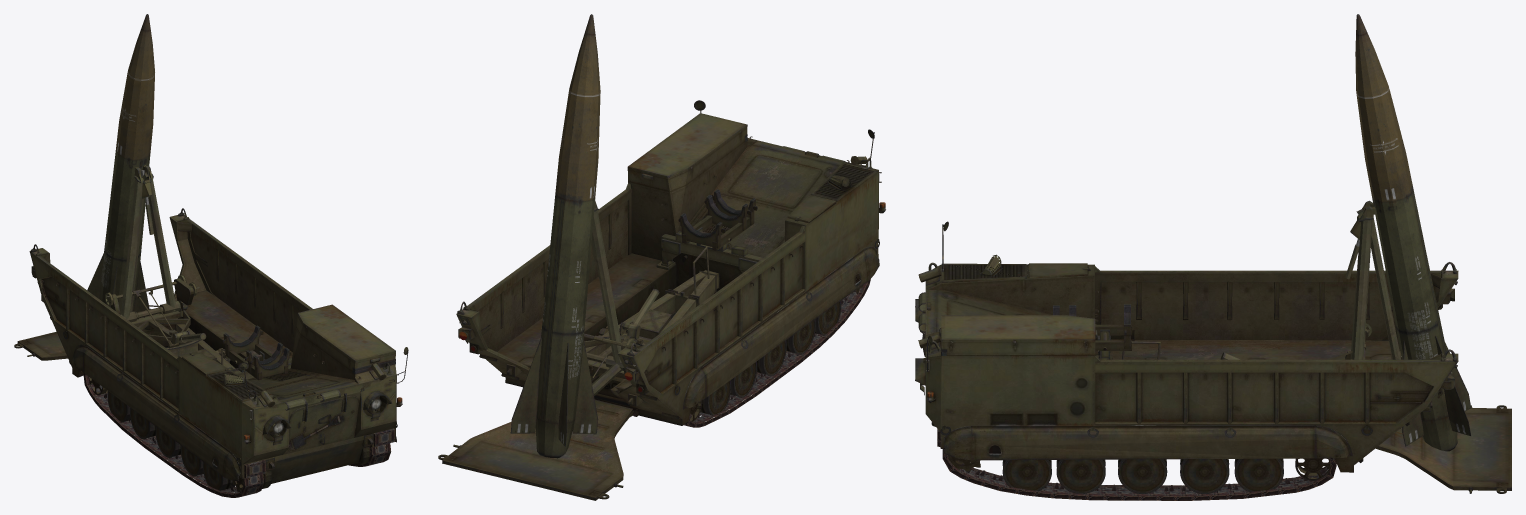
The model's file is us_ai_tbm_m752_lance_shop.obj.
The picture shows the model from 3 angles, left to right: view 1: azimuth 30°, elevation 25°; view 2: azimuth 150°, elevation 25°; view 3: azimuth 270°, elevation 25°; orthographic projection. The views are drawn at different scales.
Parts seen in each view (by area): view 1: vehicle#body_0, mgm_52_lance#mgm_52_lance_21, vehicle#gun_mask_18, vehicle#truck_2, vehicle#turret_17, vehicle#door_1, vehicle#wheel_r_01_4, vehicle#wheel_r_04_7, vehicle#wheel_r_03_6, vehicle#wheel_r_05_8; view 2: vehicle#body_0, mgm_52_lance#mgm_52_lance_21, vehicle#door_1, vehicle#truck_2, vehicle#gun_mask_18, vehicle#turret_17, vehicle#wheel_r_05_8, vehicle#wheel_r_03_6, vehicle#wheel_r_02_5, vehicle#wheel_r_04_7, vehicle#roll_01_22, vehicle#wheel_r_01_4; view 3: vehicle#body_0, mgm_52_lance#mgm_52_lance_21, vehicle#door_1, vehicle#truck_2, vehicle#gun_mask_18, vehicle#wheel_l_04_14, vehicle#wheel_l_02_12, vehicle#wheel_l_03_13, vehicle#wheel_l_05_15, vehicle#wheel_l_01_11.
Part boxes in pixels (x1,y1,x2,y2): vehicle#body_0: (29,208,408,488); mgm_52_lance#mgm_52_lance_21: (87,14,154,314); vehicle#gun_mask_18: (121,165,180,322); vehicle#truck_2: (83,373,394,497); vehicle#turret_17: (105,274,199,348); vehicle#door_1: (14,308,151,360); vehicle#wheel_r_01_4: (203,458,235,490); vehicle#wheel_r_04_7: (130,408,155,439); vehicle#wheel_r_03_6: (155,427,180,457); vehicle#wheel_r_05_8: (107,391,130,422); vehicle#body_0: (456,100,885,425); mgm_52_lance#mgm_52_lance_21: (510,14,600,458); vehicle#door_1: (438,399,634,500); vehicle#truck_2: (683,279,870,427); vehicle#gun_mask_18: (592,200,623,395); vehicle#turret_17: (541,327,643,378); vehicle#wheel_r_05_8: (700,380,731,415); vehicle#wheel_r_03_6: (757,340,786,376); vehicle#wheel_r_02_5: (786,319,815,354); vehicle#wheel_r_04_7: (730,361,757,397); vehicle#roll_01_22: (619,288,659,338); vehicle#wheel_r_01_4: (815,301,841,335); vehicle#body_0: (915,221,1458,472); mgm_52_lance#mgm_52_lance_21: (1355,14,1471,451); vehicle#door_1: (1375,405,1511,493); vehicle#truck_2: (937,429,1336,500); vehicle#gun_mask_18: (1349,200,1400,359); vehicle#wheel_l_04_14: (1180,459,1229,493); vehicle#wheel_l_02_12: (1056,459,1105,493); vehicle#wheel_l_03_13: (1118,459,1167,493); vehicle#wheel_l_05_15: (1234,458,1283,492); vehicle#wheel_l_01_11: (1002,460,1051,492).
Bounding box in the file's own units: 3.01 × 6.15 × 7.49.
Materials: 4 (4 with a texture image).
